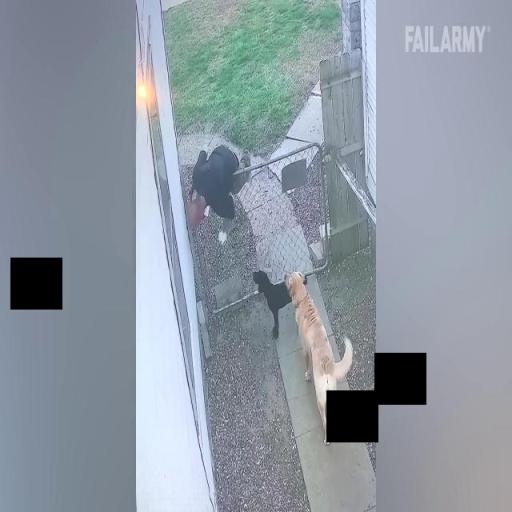Fall: (189, 146, 253, 243)
